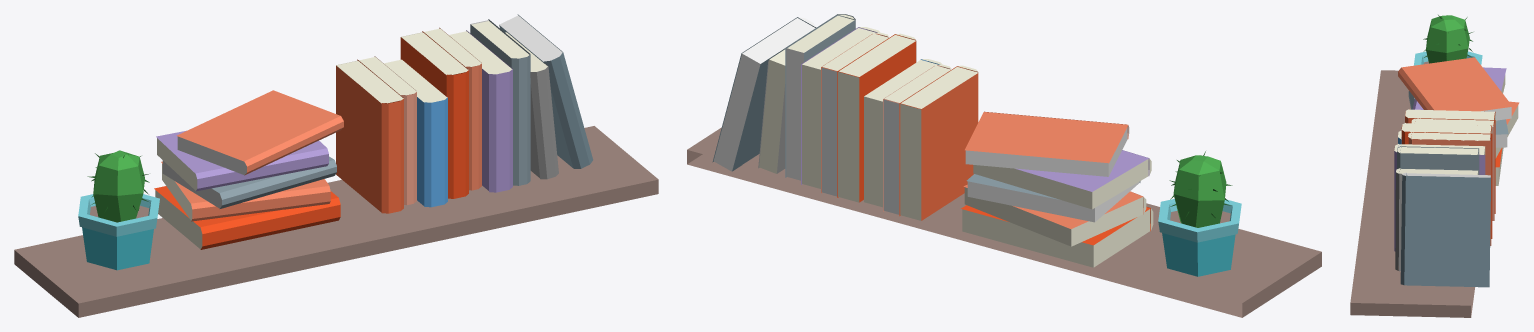
File: Shelf_M_03.fbx
3 views of the same model, side by side, from view 1: azimuth 30°, elevation 25°; view 2: azimuth 150°, elevation 25°; view 3: azimuth 270°, elevation 25° (orthographic). The views are drawn at different scales.
Visible parts, largest first — view 1: Shelf_M_03; view 2: Shelf_M_03; view 3: Shelf_M_03.
Boxes of the visible parts, x1,y1,x2,y2 form: Shelf_M_03: (14,14,658,317); Shelf_M_03: (687,14,1321,317); Shelf_M_03: (1350,15,1519,317).
Bounding box in the file's own units: 116 × 27.73 × 35.15.
1 material, 1 textured.
